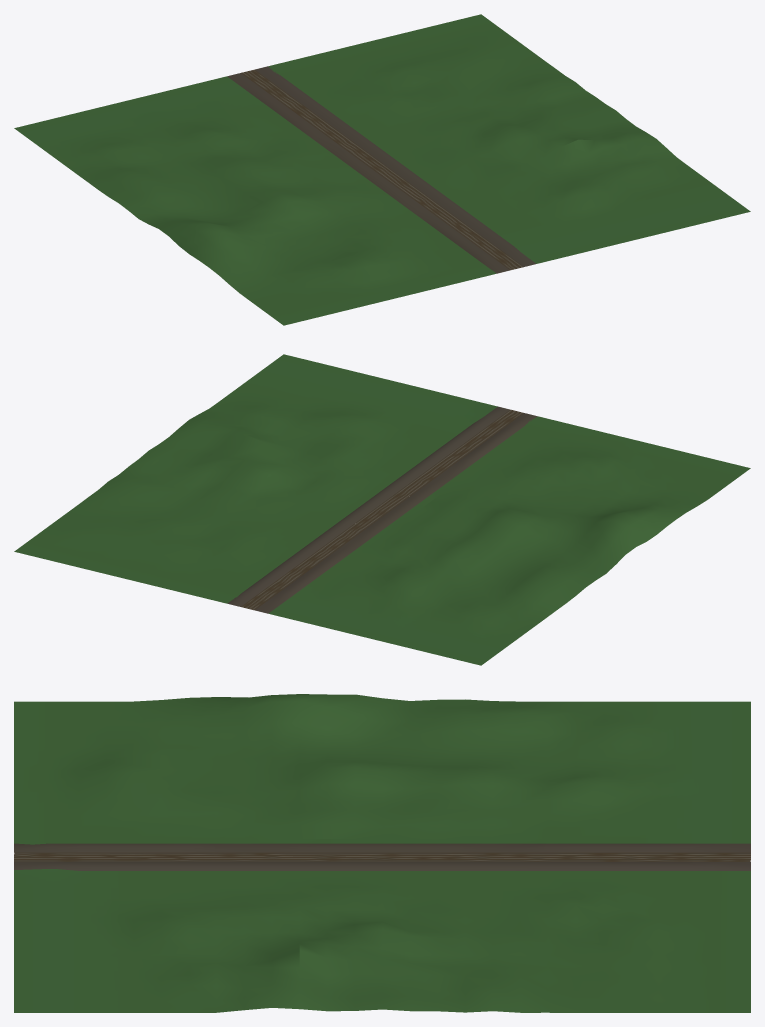
File: TileForest4_1.fbx
3 views of the same model, one above another, from view 1: azimuth 30°, elevation 25°; view 2: azimuth 150°, elevation 25°; view 3: azimuth 270°, elevation 25° (orthographic). The views are drawn at different scales.
Parts seen in each view (by area): view 1: Plane.013, Plane.017, Road; view 2: Plane.013, Plane.017, Road; view 3: Plane.013, Plane.017, Road.
Part boxes in pixels (x1,y1,x2,y2): Plane.013: (14, 14, 750, 325); Plane.017: (227, 66, 535, 273); Road: (241, 69, 523, 270); Plane.013: (14, 354, 750, 665); Plane.017: (227, 406, 537, 613); Road: (241, 409, 523, 610); Plane.013: (14, 694, 750, 1012); Plane.017: (14, 843, 750, 870); Road: (14, 852, 750, 861).
Bounding box in the file's own units: 20000 × 682 × 20006.
